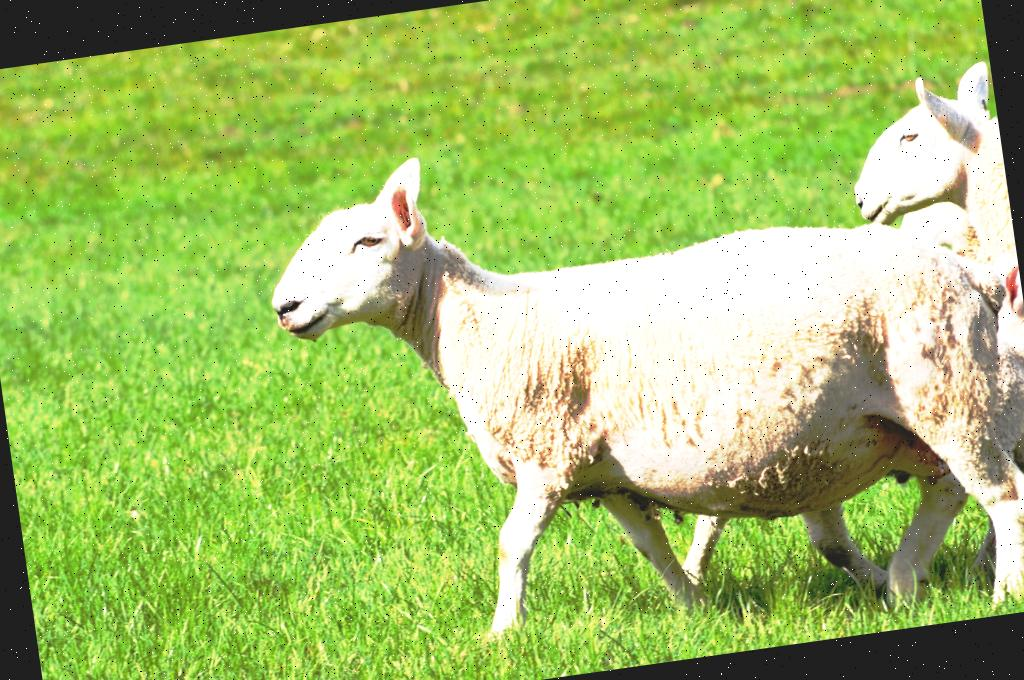Sheep: (252, 73, 1024, 680), (839, 65, 1024, 605)
